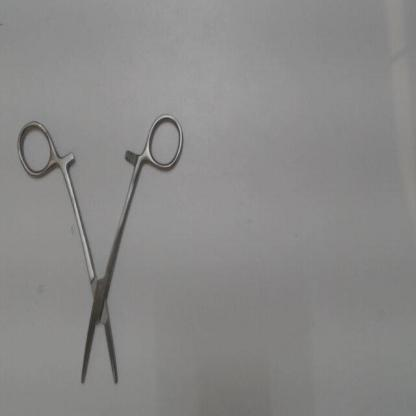Mayo Needle Holder: (13, 111, 188, 390)
